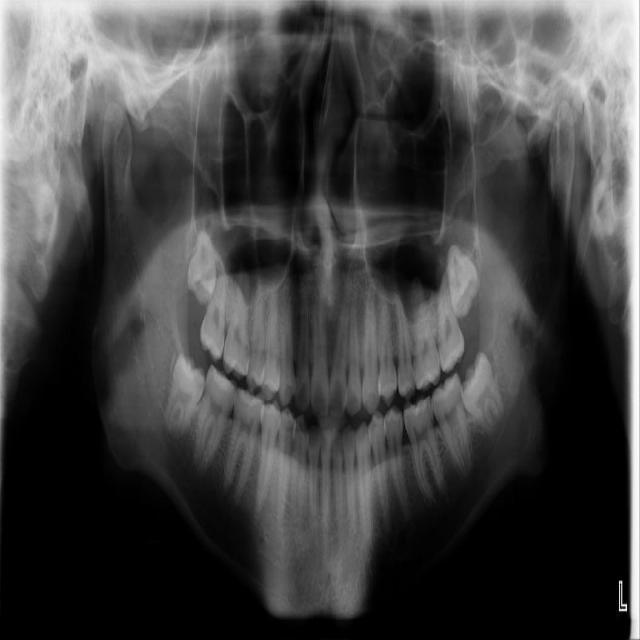3M ESPE Implant: (186, 229, 220, 306)
73: (598, 580, 610, 596)
BioHorizons Implant: (427, 262, 468, 375)
BioLife Implant: (445, 245, 483, 319)
Biomet 3i Implant: (449, 349, 512, 440)
Blue Sky Bio Implant: (427, 369, 475, 483)
Caries: (197, 265, 234, 364)
Implant: (188, 364, 242, 477)
Keystone Dental Implant: (159, 351, 211, 444)
